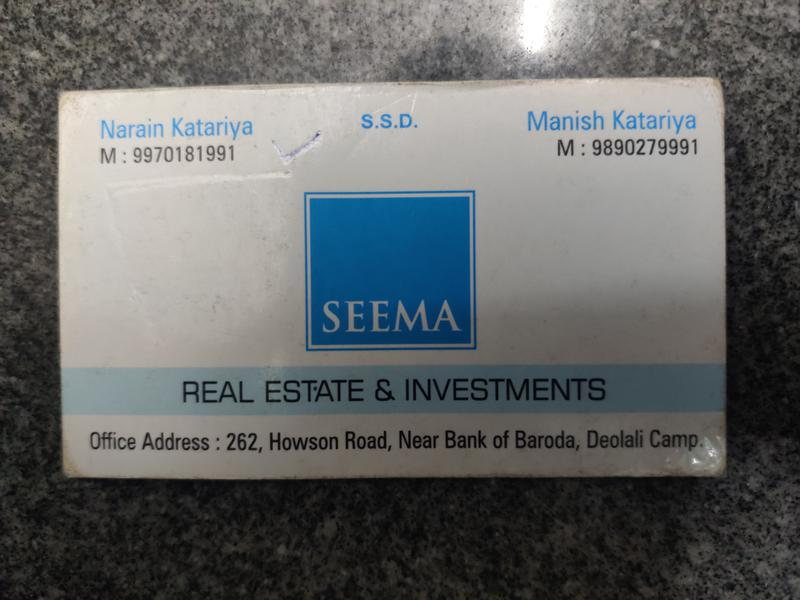card: (51, 74, 737, 488)
